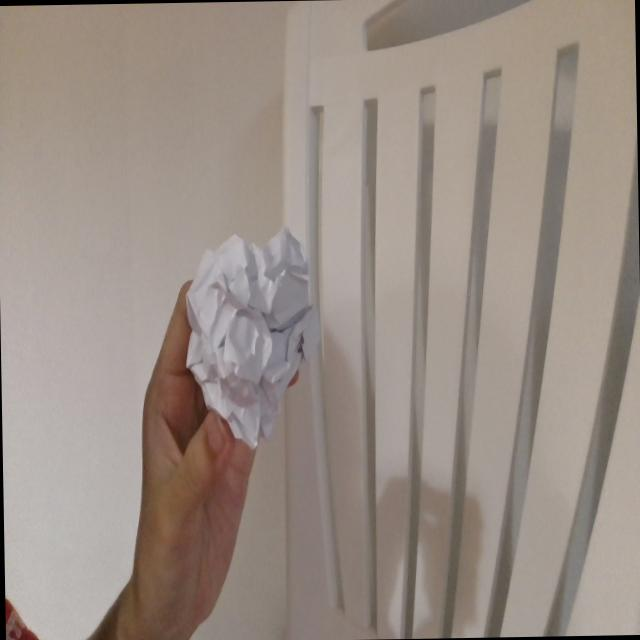crumpled_paper: (184, 216, 327, 454)
